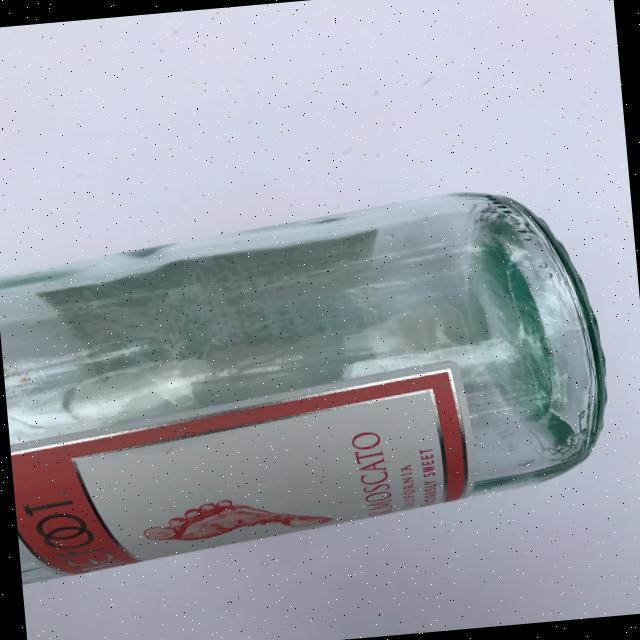glass: (0, 178, 620, 580)
